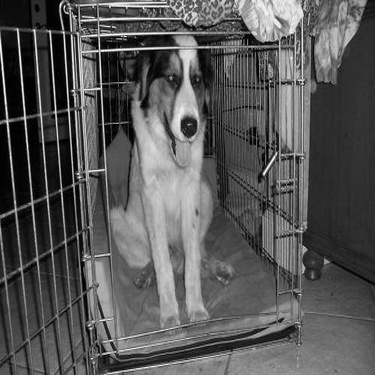dog: (82, 15, 238, 338)
